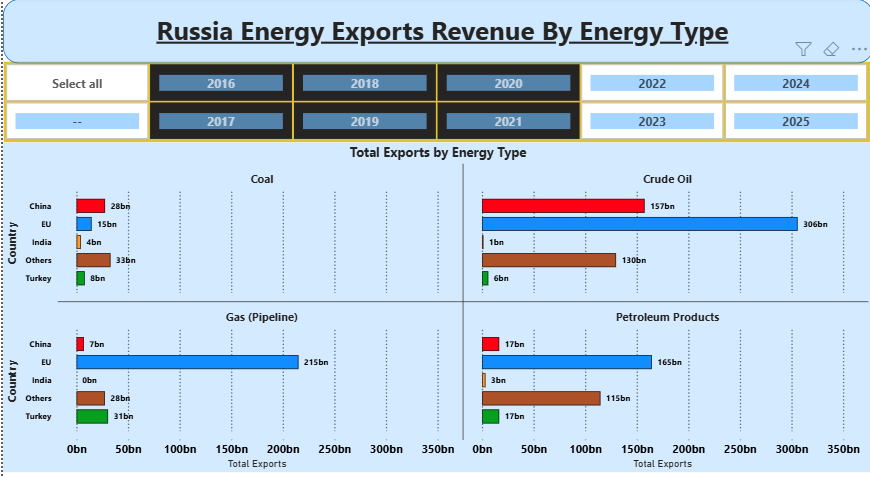

The page's visual inventory and layout, read from the dashboard file:
{"tool":"powerbi","page":{"name":"Russia EnergyType","canvas":[1280,720],"ordinal":7},"visuals":[{"type":"clusteredBarChart","title":"Total Exports by Energy Type","fields":{"Category":["russia_all_exports_16_25.Country"],"Y":["Sum(russia_all_exports_16_25.Total Export Revenue(Dollars))"],"Rows":["russia_all_exports_16_25.Energy Type"]},"box":[0,210,1252.9,474.3],"z":0},{"type":"advancedSlicerVisual","fields":{"Values":["russia_all_exports_16_25.Year"]},"box":[0,92.9,1252.9,117.1],"z":1000},{"type":"shape","box":[0,2.9,1252.9,92.9],"z":2000},{"type":"textbox","box":[215.7,17.1,927.1,78.6],"z":3000}]}

Visuals, with their boxes in screenshot pixels (x1, y1, x2, y2), scaled from the page's 1280x720 canvas onto the 870x478 screenshot:
"Total Exports by Energy Type" clusteredBarChart: (0,139,852,454)
advancedSlicerVisual - russia_all_exports_16_25.Year: (0,62,852,139)
shape: (0,2,852,64)
textbox: (147,11,777,64)
